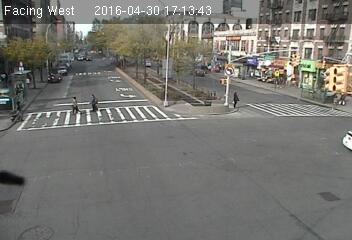neg: (266, 65, 289, 96), (228, 44, 249, 72), (128, 53, 148, 80), (177, 51, 194, 73), (12, 70, 27, 90), (64, 68, 75, 82)
pos: (8, 99, 27, 124), (64, 92, 81, 114), (85, 92, 100, 112), (228, 90, 243, 110)
